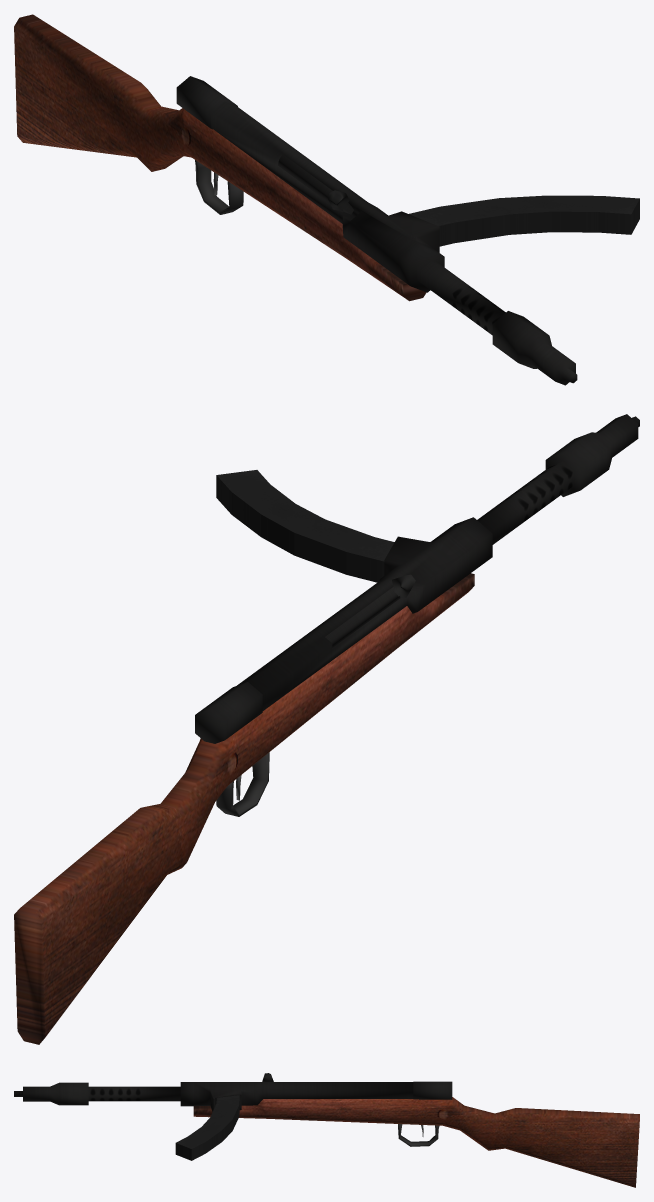
File: type100.fbx
The picture shows the model from 3 angles, top to bottom: view 1: azimuth 30°, elevation 25°; view 2: azimuth 150°, elevation 25°; view 3: azimuth 270°, elevation 25°; orthographic projection. The views are drawn at different scales.
Visible parts, largest first — view 1: basemesh, magmesh, boltmesh; view 2: basemesh, magmesh, boltmesh; view 3: basemesh, magmesh.
Part boxes in pixels (x1,y1,x2,y2): basemesh: (14,14,577,385); magmesh: (409,195,639,246); boltmesh: (278,154,353,214); basemesh: (14,414,639,1044); magmesh: (216,470,394,582); boltmesh: (325,574,415,647); basemesh: (14,1081,639,1187); magmesh: (175,1095,239,1160).
Size of the model in its own units: 123 by 91 by 476.
